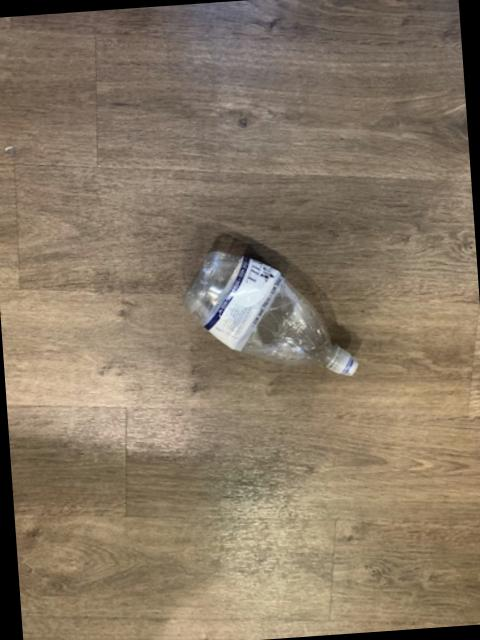plastic: (185, 252, 358, 376)
